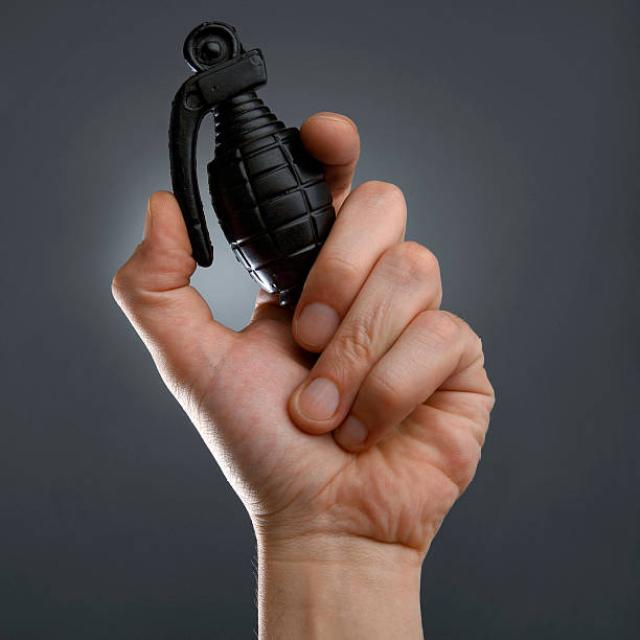grenade: (171, 19, 338, 305)
